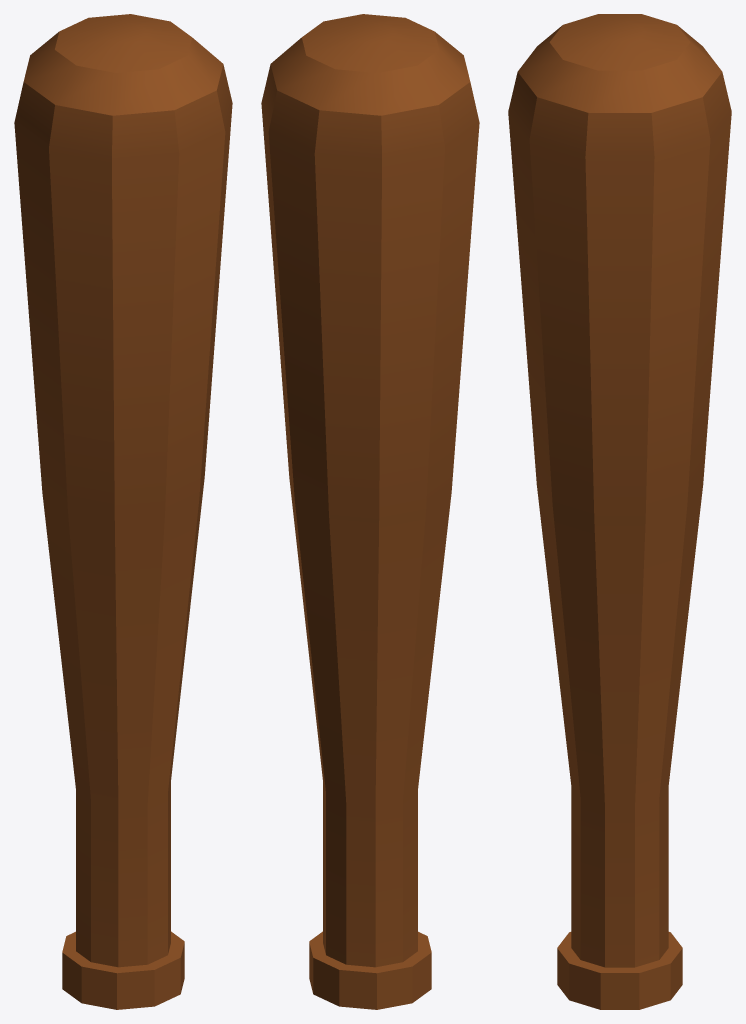
File: sopa.fbx
3 views of the same model, side by side, from view 1: azimuth 30°, elevation 25°; view 2: azimuth 150°, elevation 25°; view 3: azimuth 270°, elevation 25° (orthographic).
Parts seen in each view (by area): view 1: sopa; view 2: sopa; view 3: sopa.
Part boxes in pixels (x1,y1,x2,y2): sopa: [14, 14, 232, 1009]; sopa: [261, 14, 479, 1009]; sopa: [508, 14, 731, 1009].
Size of the model in its own units: 42.58 by 211 by 44.77.
